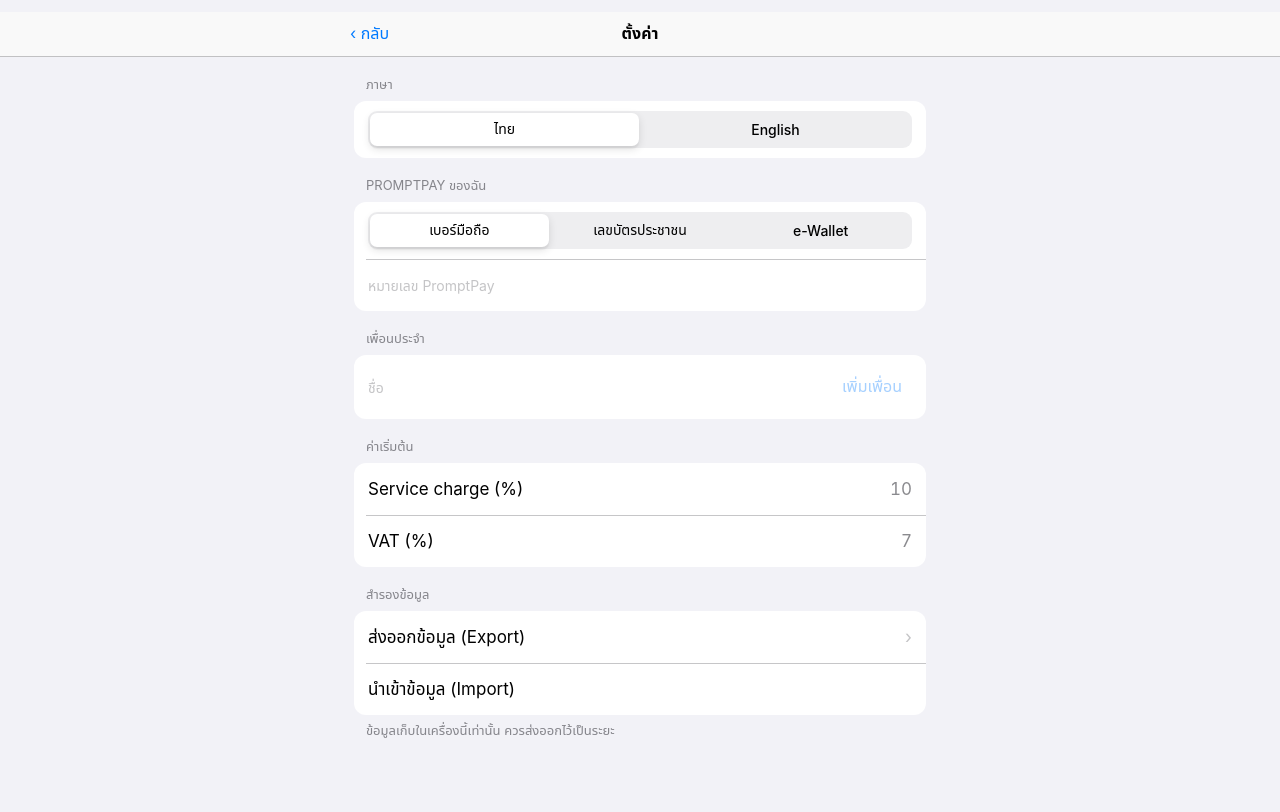
Test: SettingsPage › validates PromptPay ID, saves normalized, and rejects invalid backup file
The image size is (1280, 812).
Later steps or results of the test are not shown.
Type "081234567" into the field with placeholder "หมายเลข PromptPay" at (640, 285), box [368, 269, 912, 301]
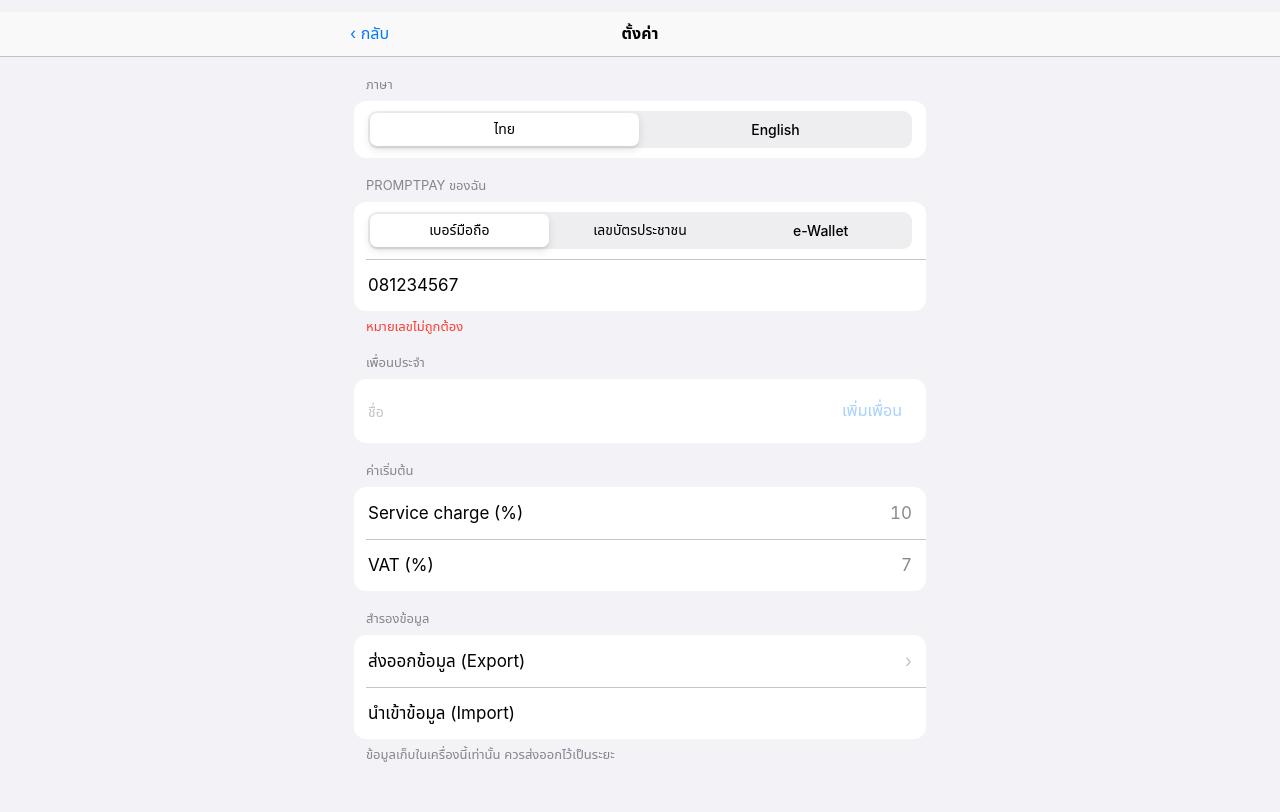
Result: the text "หมายเลขไม่ถูกต้อง" is shown at [366, 318, 463, 334]
